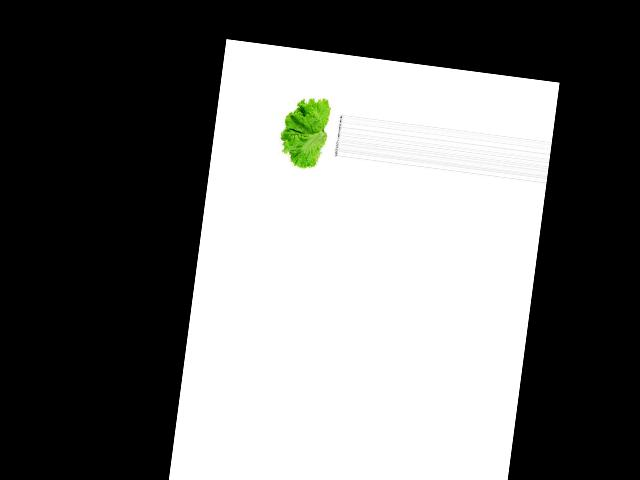lettuce: (276, 93, 341, 173)
